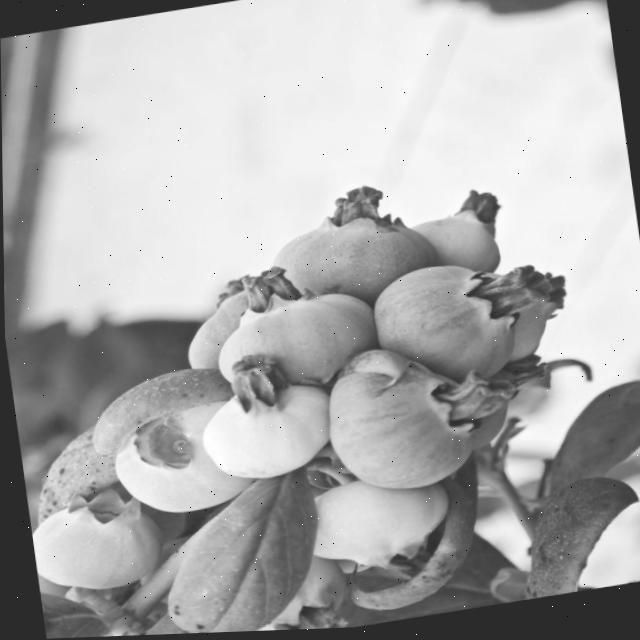RipeBlueBerry: (319, 348, 490, 503), (365, 256, 526, 398), (205, 277, 377, 400)
Semi-RipeBlueBerry: (262, 200, 439, 306)
UnripeBlueBerry: (191, 372, 335, 491)
